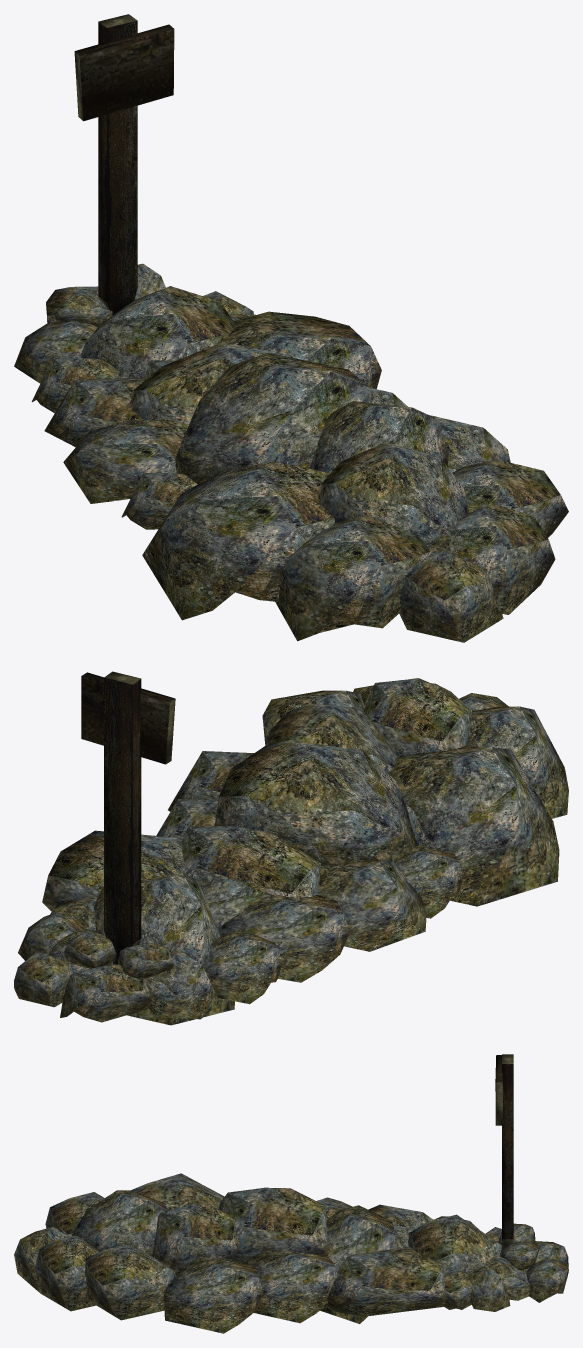
The model's file is KM_VOB_CITY_GRAVE_02.glb.
The picture shows the model from 3 angles, top to bottom: view 1: azimuth 30°, elevation 25°; view 2: azimuth 150°, elevation 25°; view 3: azimuth 270°, elevation 25°; orthographic projection. The views are drawn at different scales.
Visible parts, largest first — view 1: Mesh; view 2: Mesh; view 3: Mesh.
Boxes of the visible parts, x1,y1,x2,y2 form: Mesh: [14, 14, 568, 642]; Mesh: [14, 671, 568, 1025]; Mesh: [14, 1054, 568, 1333].
Size of the model in its own units: 1.19 by 1.15 by 2.4.
Materials: 3 (3 with a texture image).
